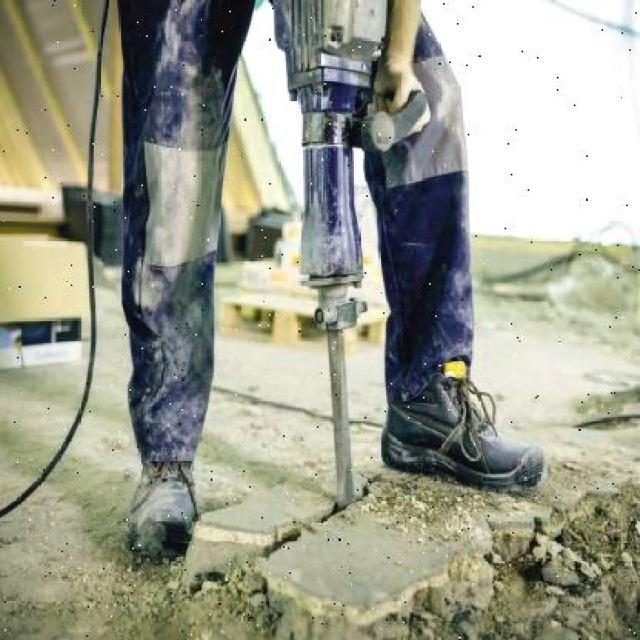shoes: (379, 362, 550, 498), (122, 448, 208, 558)
